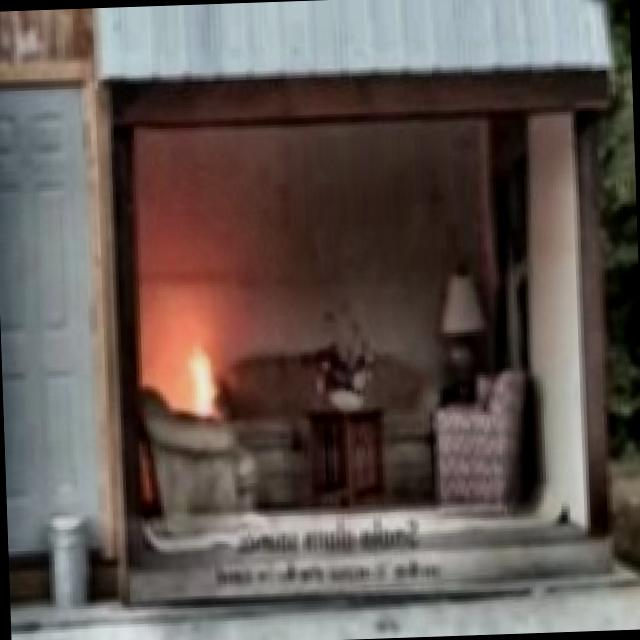fire: (173, 322, 219, 420)
